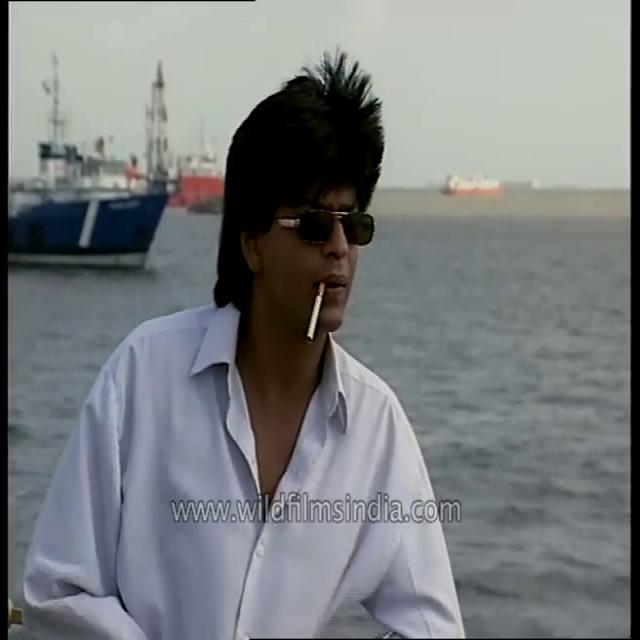Smooking: (297, 279, 336, 354)
